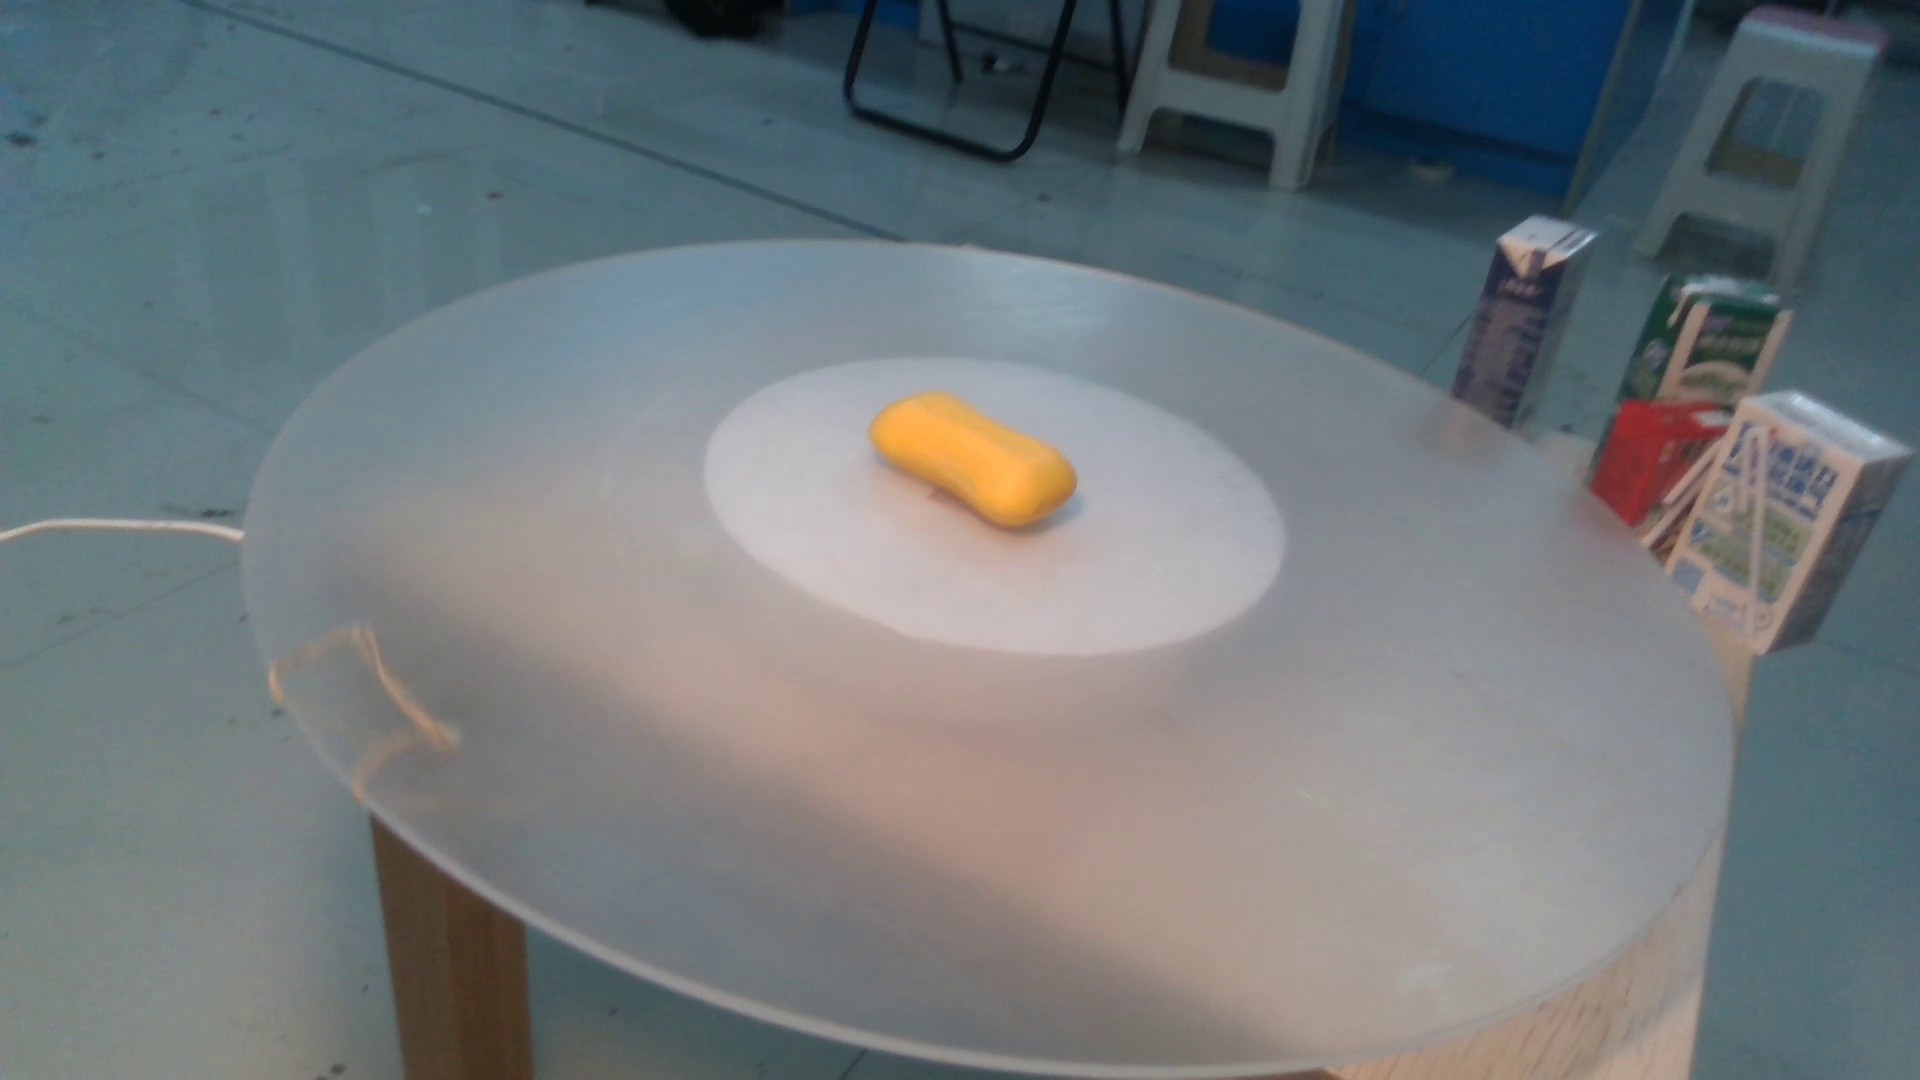CA003_1: (855, 386, 1084, 549)
